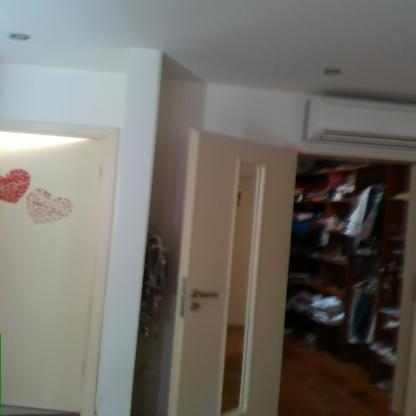closed: (0, 106, 125, 416)
open: (207, 120, 416, 407)
